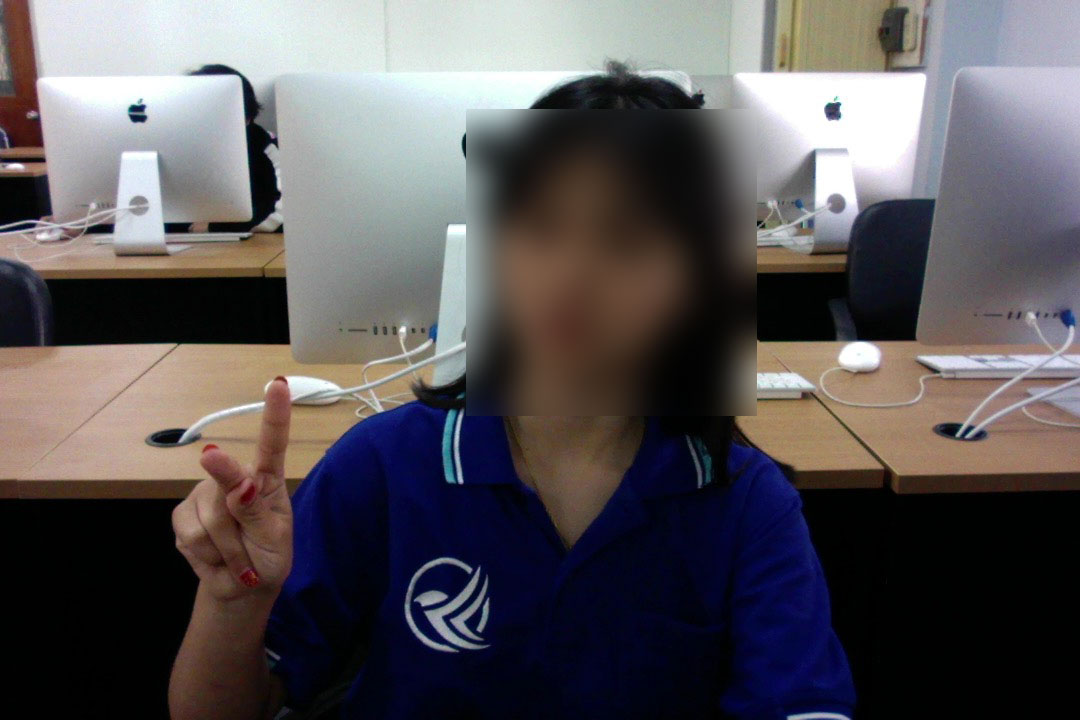ko: (168, 365, 301, 600)
